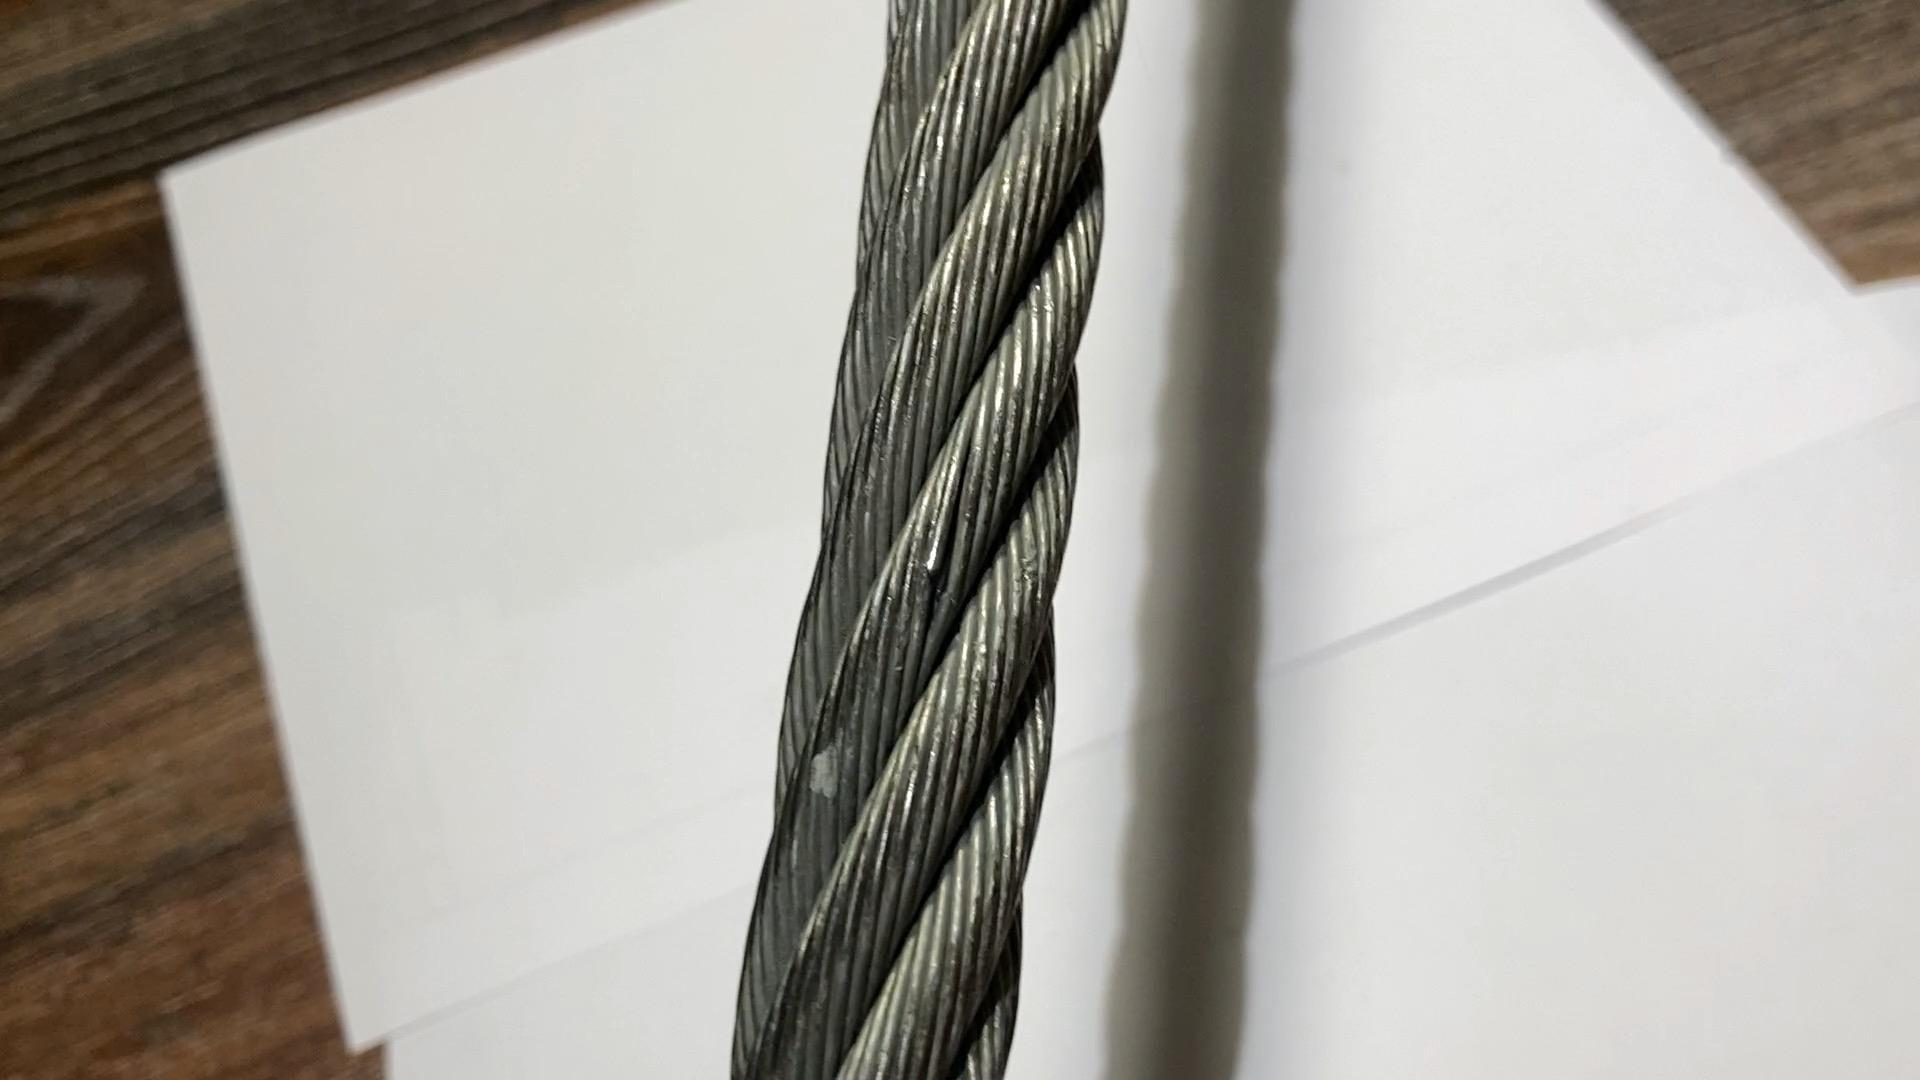break: (909, 530, 977, 600)
